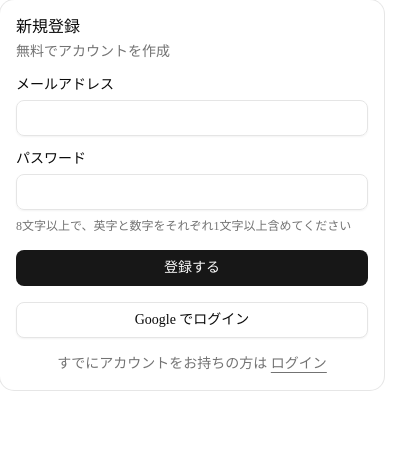
it: RegisterForm › サーバーエラーを表示する
Step 1. Type "a@example.com" into the field labelled "メールアドレス" → (192, 118), box [16,100,368,136]
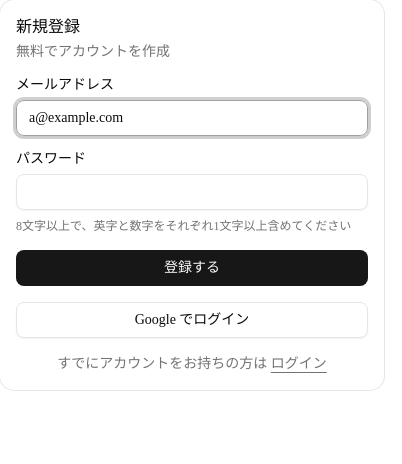
Step 2. Type "abcde123" into the password field labelled "パスワード" → (192, 192), box [16,174,368,210]
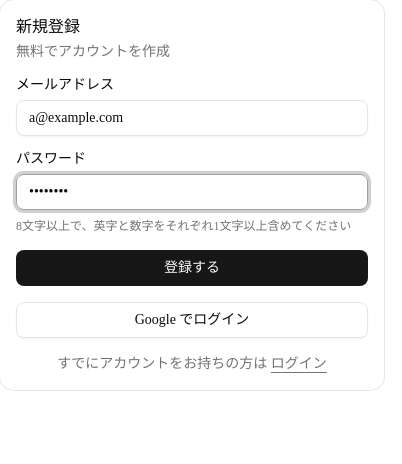
Step 3. Click the button "登録する" → (192, 268), box [16,250,368,286]
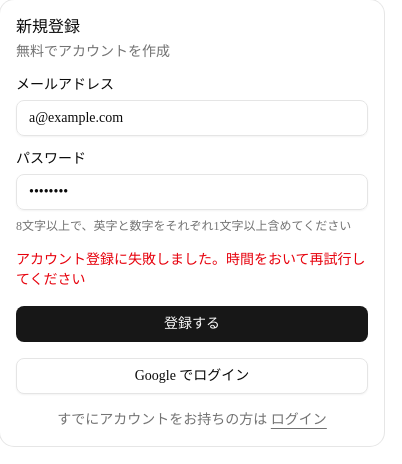
Now the message shows "登録に失敗", box [16,252,366,287]
